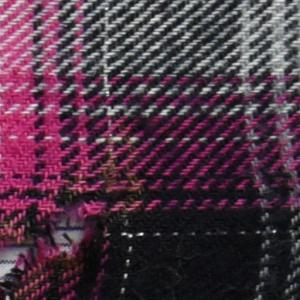Damage: (1, 181, 118, 300)
